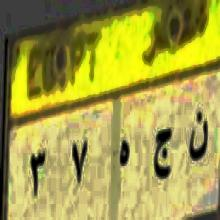3: (30, 148, 47, 198)
7: (70, 138, 90, 188)
haa: (115, 126, 133, 171)
jeem: (154, 126, 174, 182)
noon: (186, 104, 210, 165)
